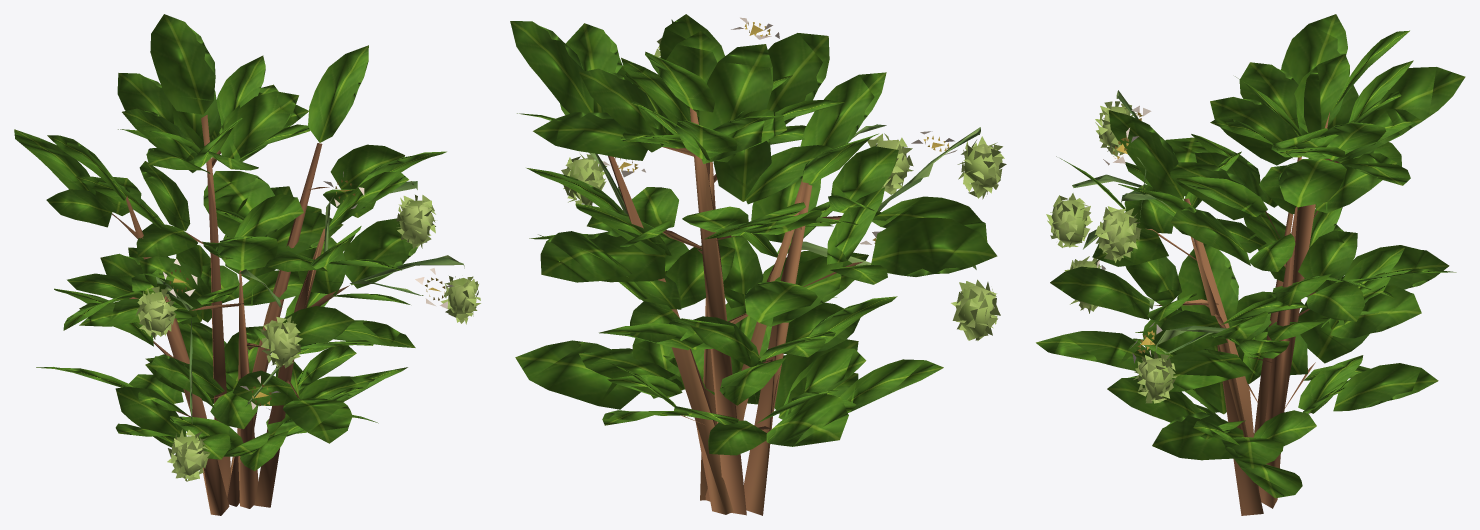
The model's file is NP_Raspberry_Flowering_LOD1.fbx.
3 views of the same model, side by side, from view 1: azimuth 30°, elevation 25°; view 2: azimuth 150°, elevation 25°; view 3: azimuth 270°, elevation 25° (orthographic). The views are drawn at different scales.
Visible parts, largest first — view 1: NP_Raspberry_Flowering; view 2: NP_Raspberry_Flowering; view 3: NP_Raspberry_Flowering.
Boxes of the visible parts, x1,y1,x2,y2 form: NP_Raspberry_Flowering: (14, 14, 480, 515); NP_Raspberry_Flowering: (510, 14, 1006, 515); NP_Raspberry_Flowering: (1036, 14, 1465, 515).
Size of the model in its own units: 75.02 by 80.55 by 66.61.
1 material, 1 textured.
